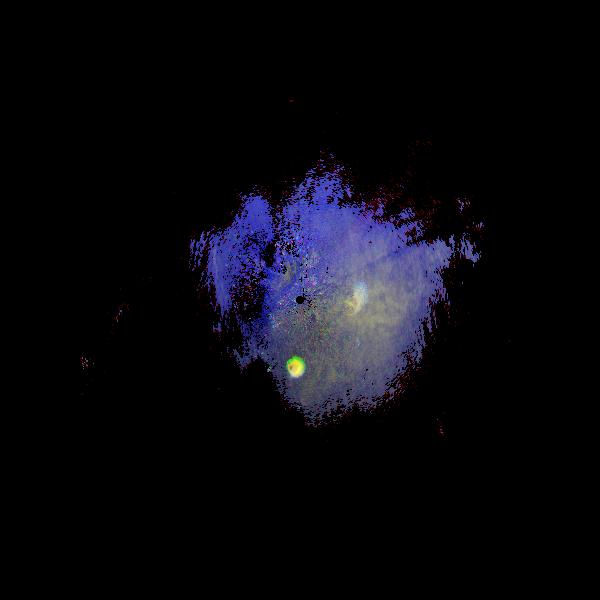roost: (338, 280, 380, 322), (285, 358, 306, 379)
